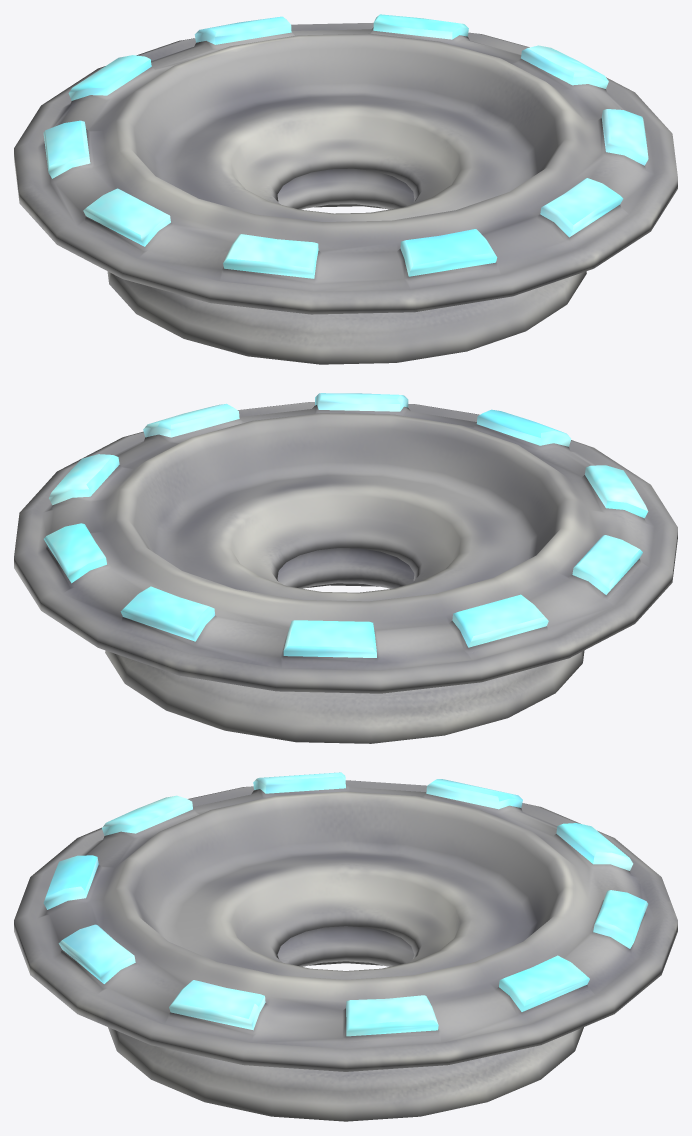
Rendered from hologram_projector.glb.
The picture shows the model from 3 angles, top to bottom: view 1: azimuth 30°, elevation 25°; view 2: azimuth 150°, elevation 25°; view 3: azimuth 270°, elevation 25°; orthographic projection.
Parts seen in each view (by area): view 1: pTorus1; view 2: pTorus1; view 3: pTorus1.
Part boxes in pixels (x1=…): pTorus1: x1=14, y1=14, x2=677, y2=364; pTorus1: x1=14, y1=393, x2=677, y2=743; pTorus1: x1=14, y1=772, x2=677, y2=1121.
Bounding box in the file's own units: 1.39 × 0.3366 × 1.39.
Materials: 2 (2 with a texture image).
